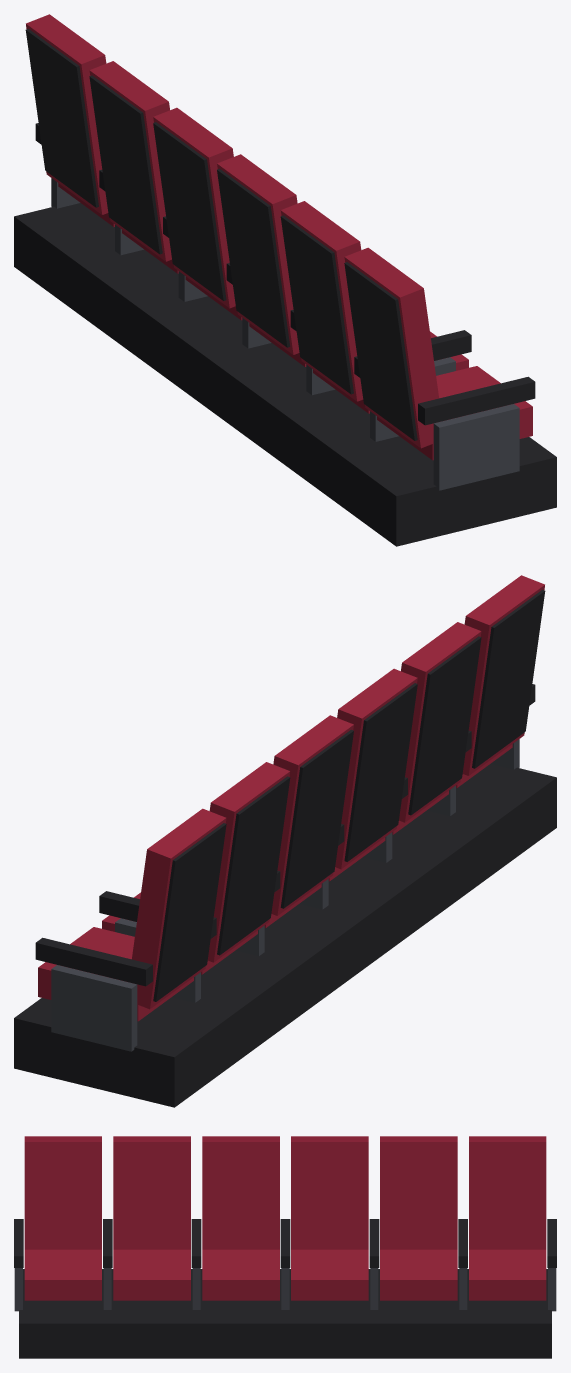
The model's file is SM_SeatRow.fbx.
3 renders of one model, top to bottom at view 1: azimuth 30°, elevation 25°; view 2: azimuth 150°, elevation 25°; view 3: azimuth 270°, elevation 25°, orthographic. The views are drawn at different scales.
Parts seen in each view (by area): view 1: SM_SeatRow; view 2: SM_SeatRow; view 3: SM_SeatRow.
Part boxes in pixels (x1,y1,x2,y2): SM_SeatRow: (14, 14, 556, 546); SM_SeatRow: (14, 575, 556, 1107); SM_SeatRow: (14, 1136, 556, 1358).
Size of the model in its own units: 80 by 118 by 336.
